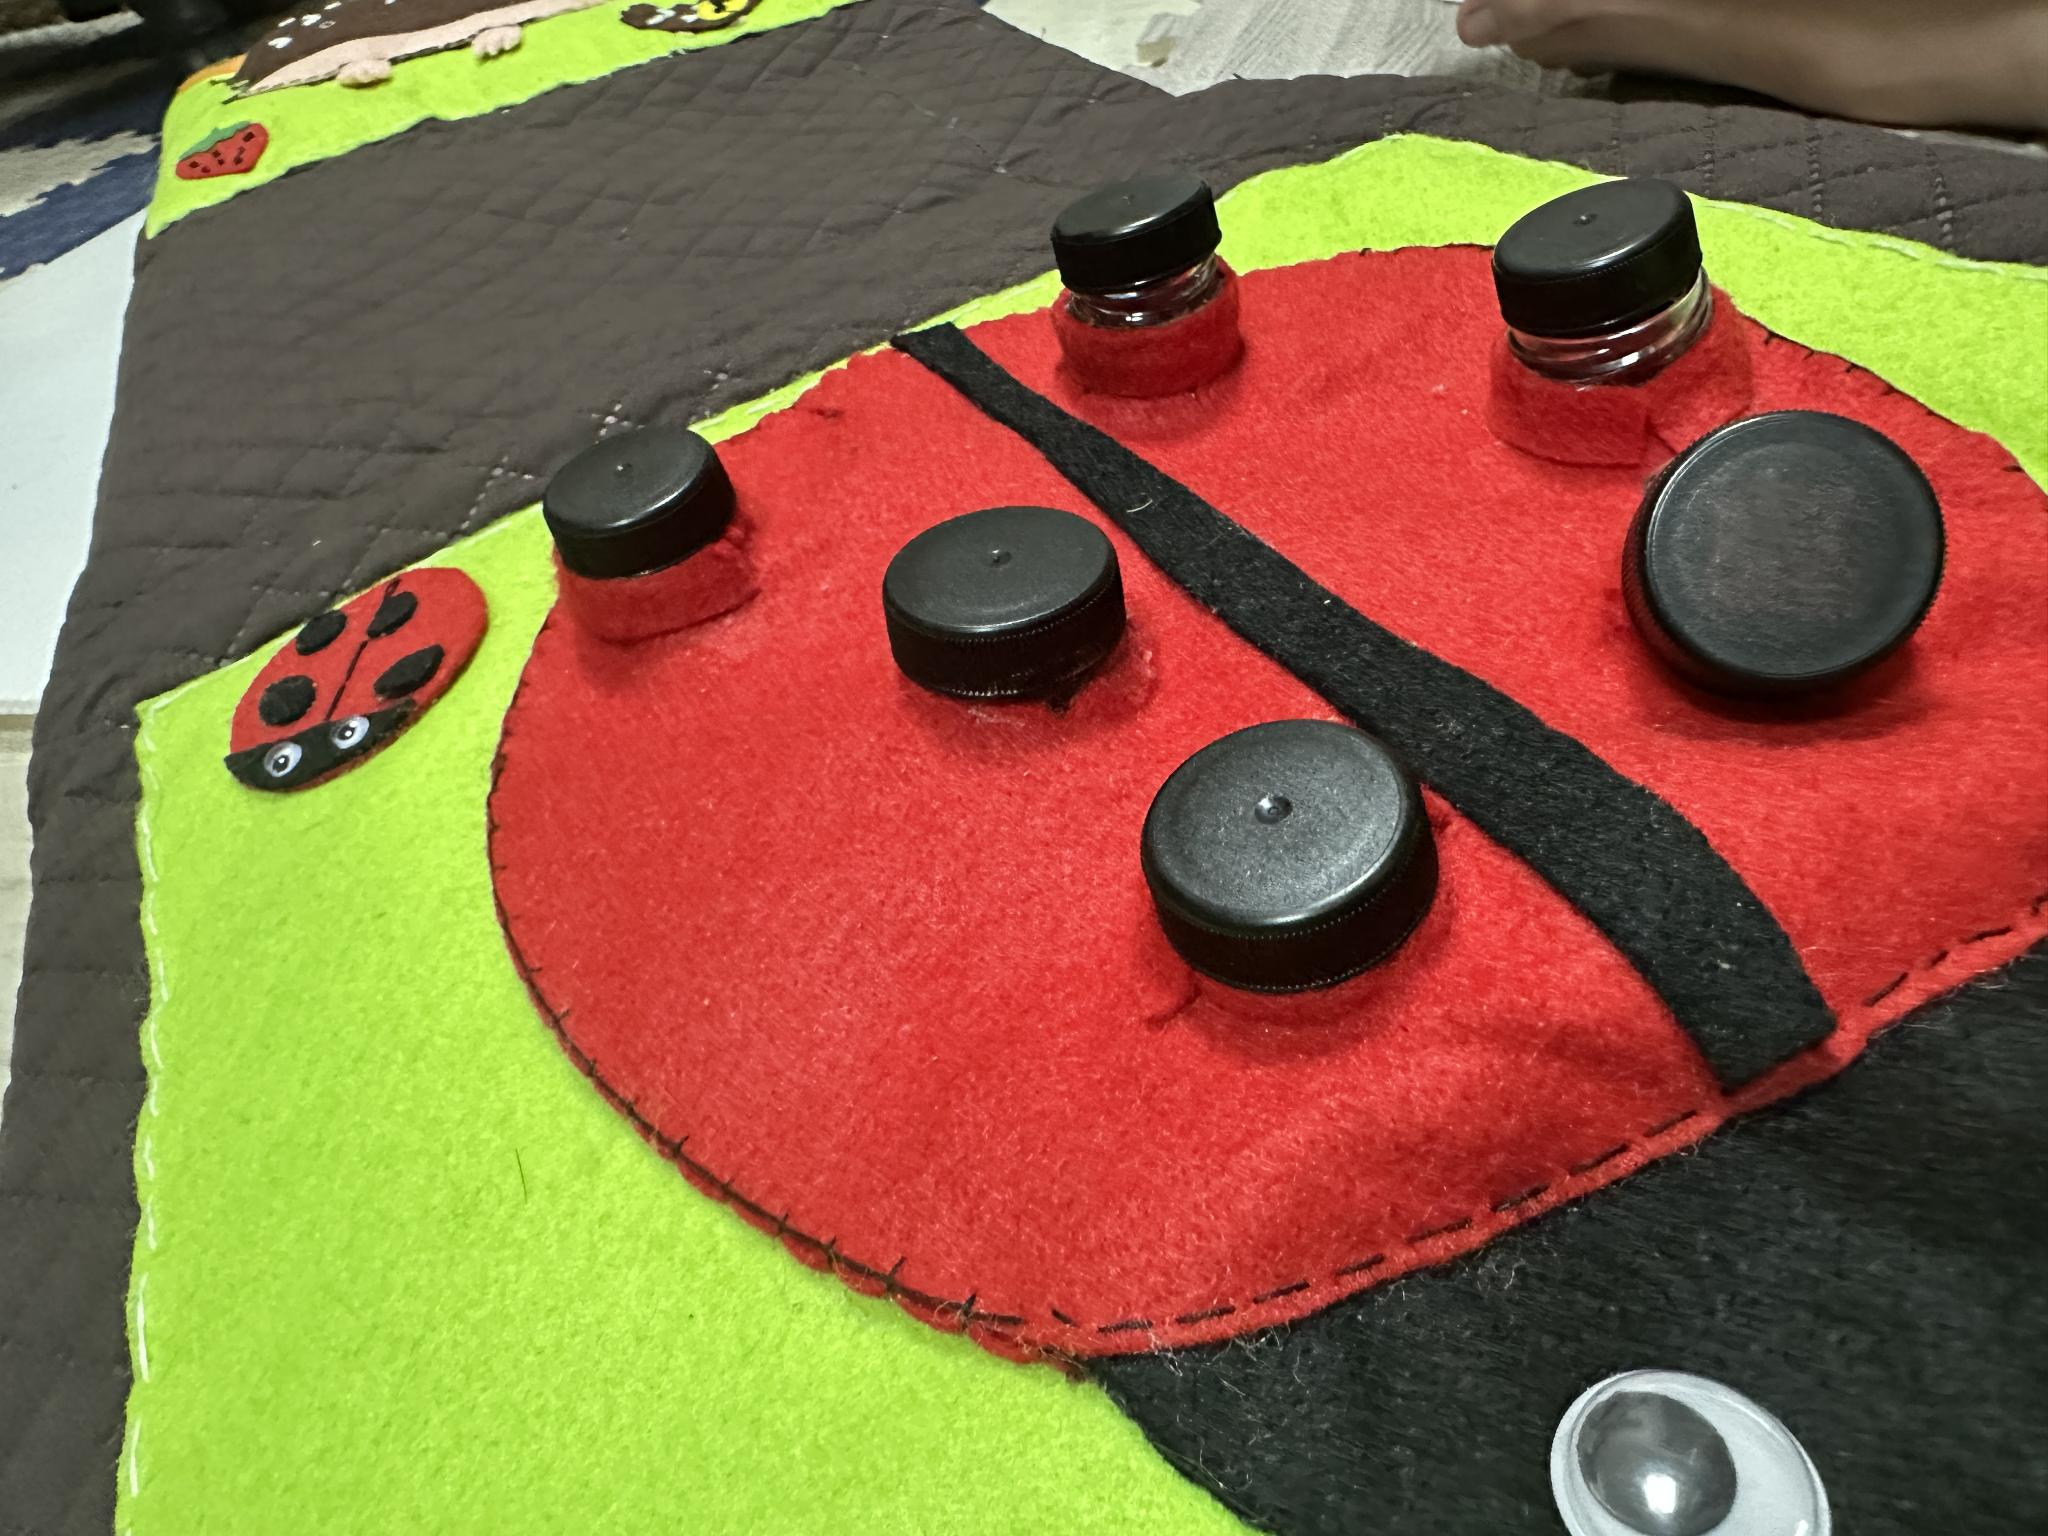cap_ng: (1609, 405, 1971, 739), (1479, 153, 1742, 449), (1024, 158, 1277, 415)
cap_ok: (1118, 684, 1474, 1029), (856, 478, 1140, 745), (521, 408, 792, 660)
